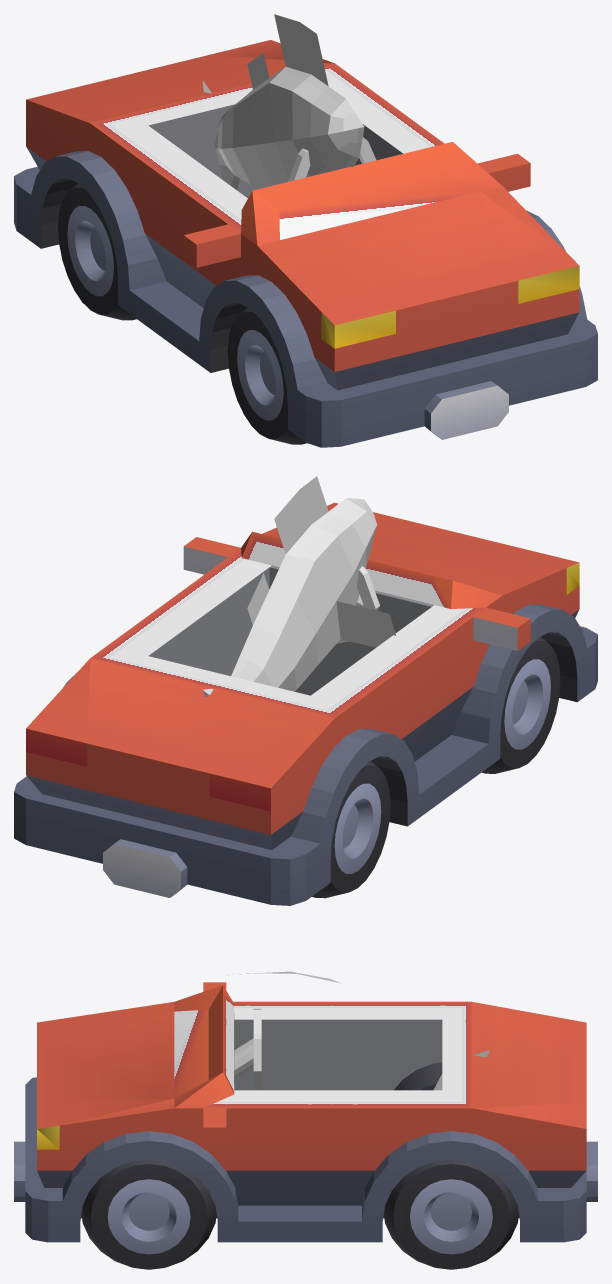
Rendered from carro.glb.
The picture shows the model from 3 angles, top to bottom: view 1: azimuth 30°, elevation 25°; view 2: azimuth 150°, elevation 25°; view 3: azimuth 270°, elevation 25°; orthographic projection. The views are drawn at different scales.
Visible parts, largest first — view 1: body, peixe, wheel-back-right, wheel-front-right, Circle; view 2: body, peixe, wheel-front-right, wheel-back-right, Circle; view 3: body, wheel-front-left, wheel-back-left, Circle, wheel-back-right.
Part boxes in pixels (bbox=[...]): body: bbox=[14, 40, 597, 447]; peixe: bbox=[202, 14, 364, 190]; wheel-back-right: bbox=[58, 183, 136, 320]; wheel-front-right: bbox=[227, 307, 306, 444]; Circle: bbox=[288, 137, 376, 181]; body: bbox=[14, 502, 597, 905]; peixe: bbox=[202, 476, 395, 696]; wheel-front-right: bbox=[482, 636, 560, 773]; wheel-back-right: bbox=[312, 761, 390, 898]; Circle: bbox=[336, 566, 379, 643]; body: bbox=[14, 982, 597, 1242]; wheel-front-left: bbox=[81, 1159, 216, 1269]; wheel-back-left: bbox=[383, 1159, 518, 1269]; Circle: bbox=[234, 1008, 261, 1090]; wheel-back-right: bbox=[394, 1062, 442, 1090].
Size of the model in its own units: 1.5 by 1.38 by 2.55.
1 material, 1 textured.
